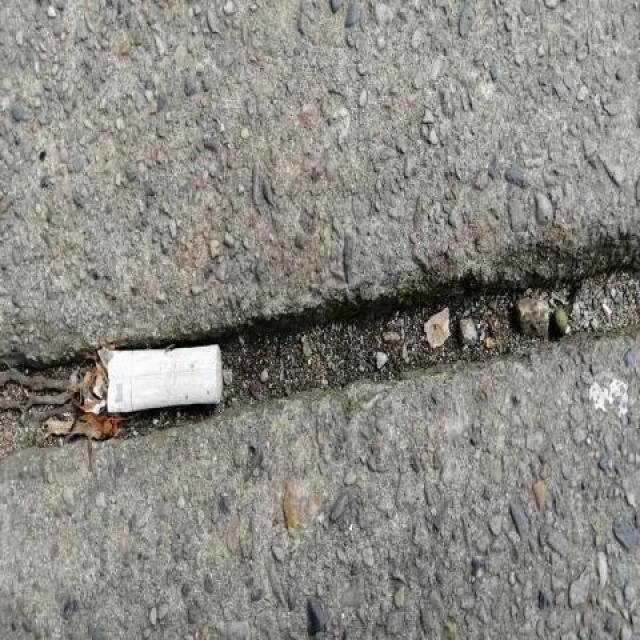non-organic waste: (92, 338, 228, 418)
